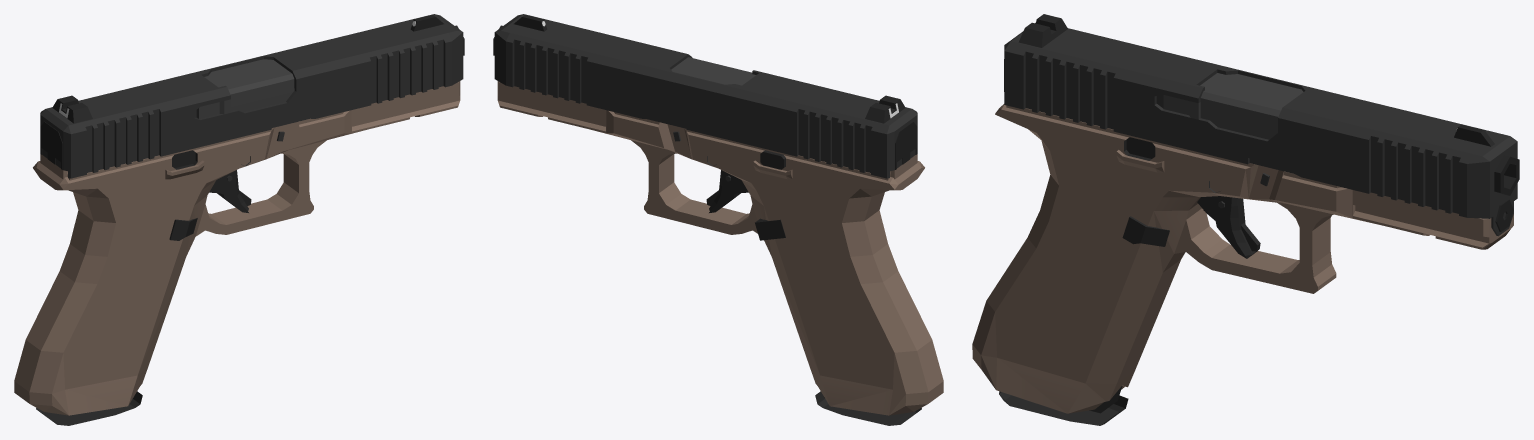
File: pistol_glock17.glb
3 renders of one model, left to right at view 1: azimuth 30°, elevation 25°; view 2: azimuth 150°, elevation 25°; view 3: azimuth 330°, elevation 25°, orthographic. The views are drawn at different scales.
Visible parts, largest first — view 1: Object_4; view 2: Object_4; view 3: Object_4.
Part boxes in pixels (x1,y1,x2,y2): Object_4: (14,14,464,425); Object_4: (493,14,943,425); Object_4: (972,14,1519,425).
Size of the model in its own units: 0.2052 by 0.1408 by 0.0289.
Materials: 1 (1 with a texture image).
